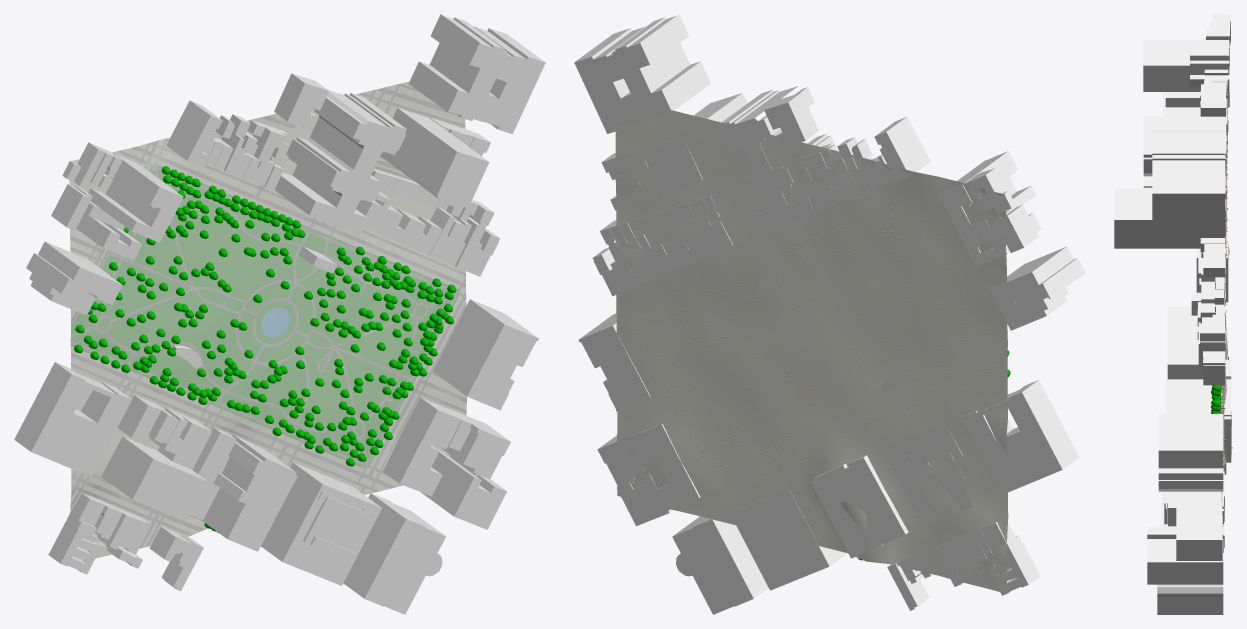
Rendered from wsp.glb.
3 renders of one model, left to right at view 1: azimuth 30°, elevation 25°; view 2: azimuth 150°, elevation 25°; view 3: azimuth 270°, elevation 25°, orthographic. The views are drawn at different scales.
Parts seen in each view (by area): view 1: TPX_Buildings, TPX_GreenAreas, TPX_RoadsOutlines, TPX_Ground; view 2: TPX_Ground, TPX_Buildings; view 3: TPX_Buildings, TPX_Ground.
Boxes of the visible parts, x1,y1,x2,y2 form: TPX_Buildings: (14, 14, 545, 614); TPX_GreenAreas: (70, 164, 459, 468); TPX_RoadsOutlines: (70, 83, 466, 548); TPX_Ground: (68, 81, 466, 558); TPX_Ground: (615, 97, 1008, 591); TPX_Buildings: (574, 14, 1085, 614); TPX_Buildings: (1114, 14, 1231, 614); TPX_Ground: (1221, 30, 1231, 526).
Bounding box in the file's own units: 403 × 437 × 90.43.
